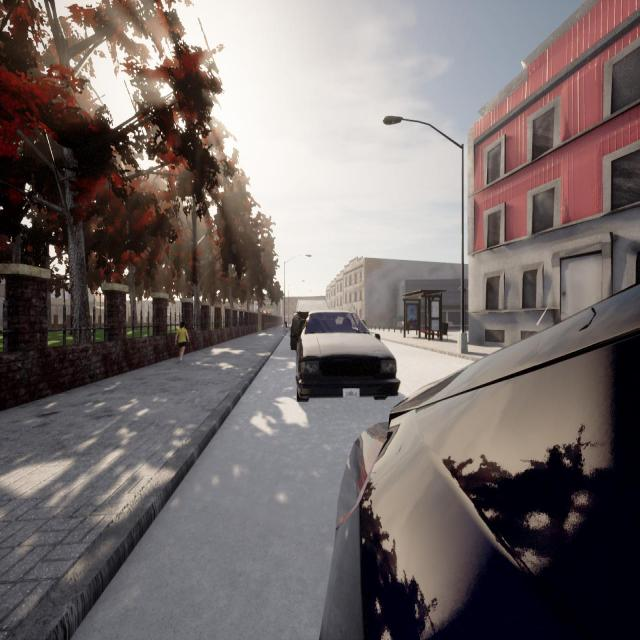Pedestrian: (175, 321, 189, 362)
Vehicle: (320, 285, 640, 638), (296, 312, 400, 404), (290, 298, 330, 349)
